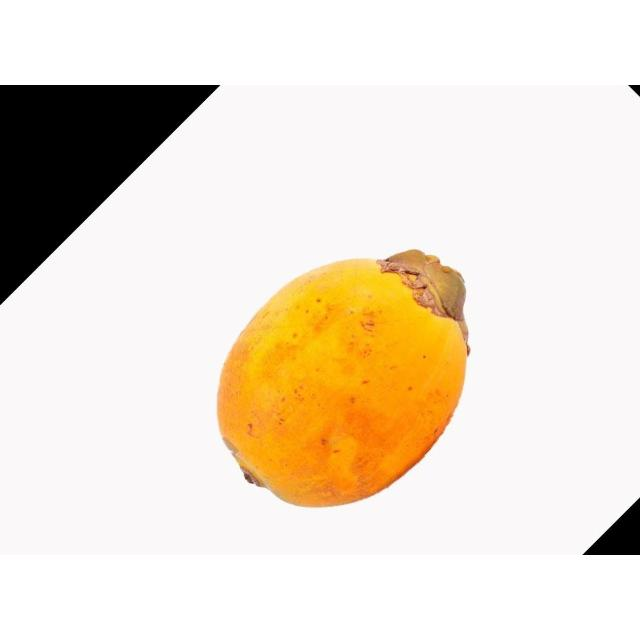good: (215, 250, 470, 510)
